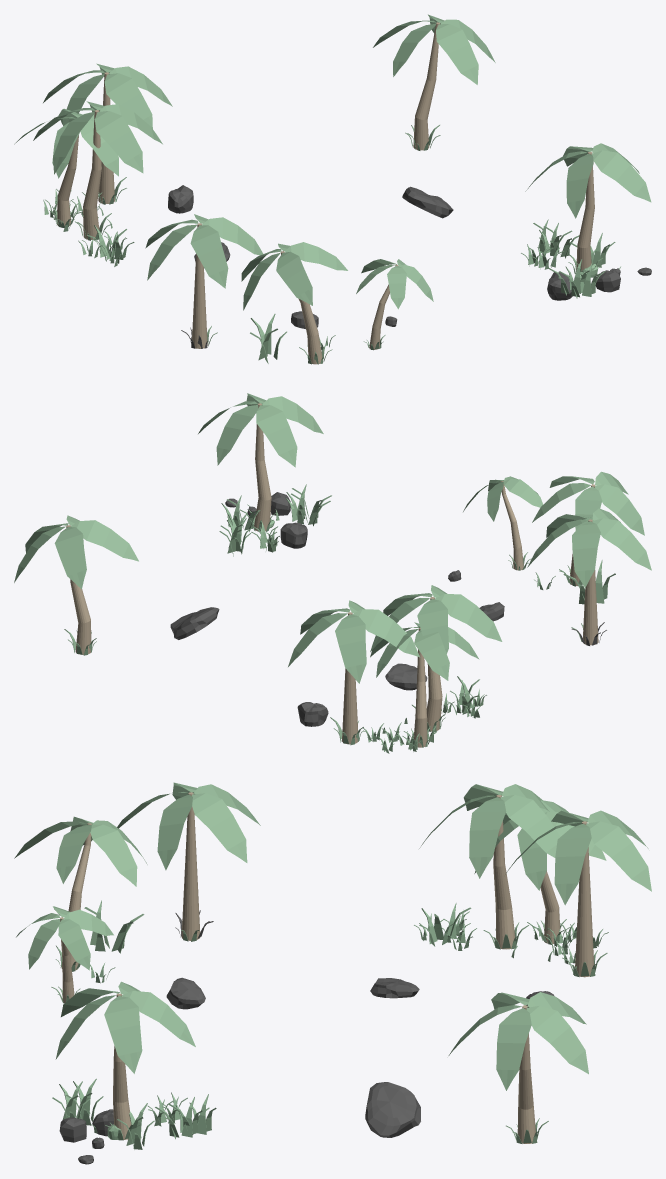
Rendered from SandFoliage_01.FBX.
The picture shows the model from 3 angles, top to bottom: view 1: azimuth 30°, elevation 25°; view 2: azimuth 150°, elevation 25°; view 3: azimuth 270°, elevation 25°; orthographic projection. The views are drawn at different scales.
Visible parts, largest first — view 1: Object004; view 2: Object004; view 3: Object004.
Part boxes in pixels (bbox=[...]): Object004: bbox=[14, 14, 651, 364]; Object004: bbox=[14, 393, 651, 753]; Object004: bbox=[14, 782, 651, 1164].
Bounding box in the file's own units: 426 × 122 × 409.
